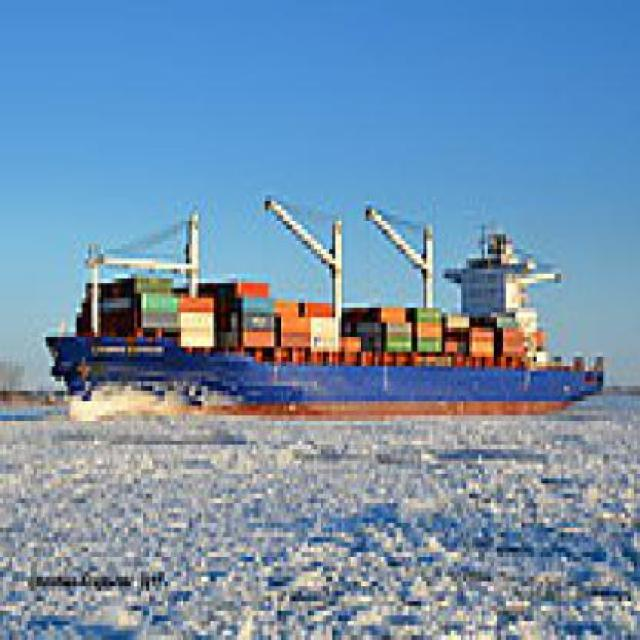container: (34, 177, 611, 436)
